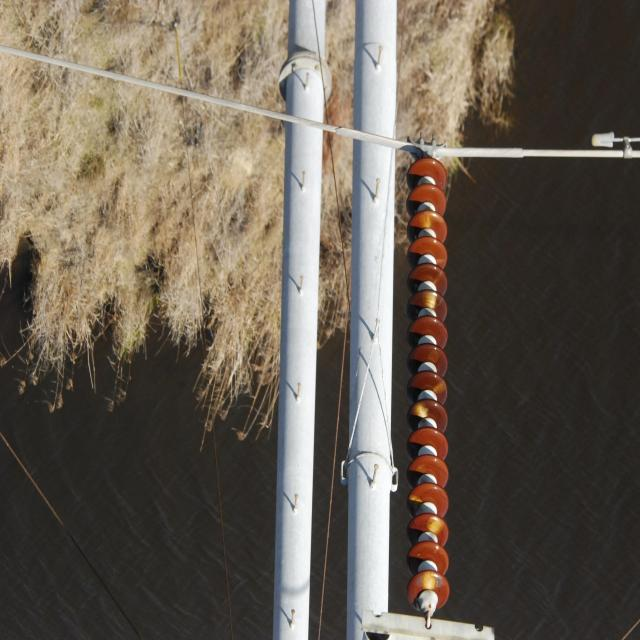insulator: (404, 159, 450, 608)
